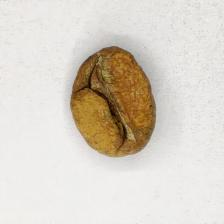NG: (72, 53, 141, 155)
